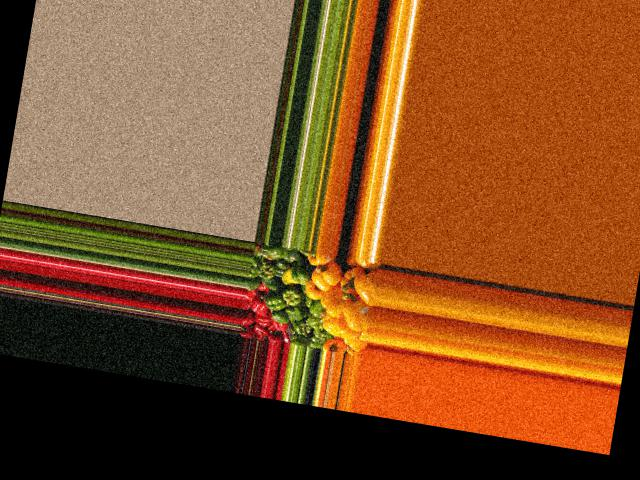bell_pepper: (252, 240, 277, 260)
